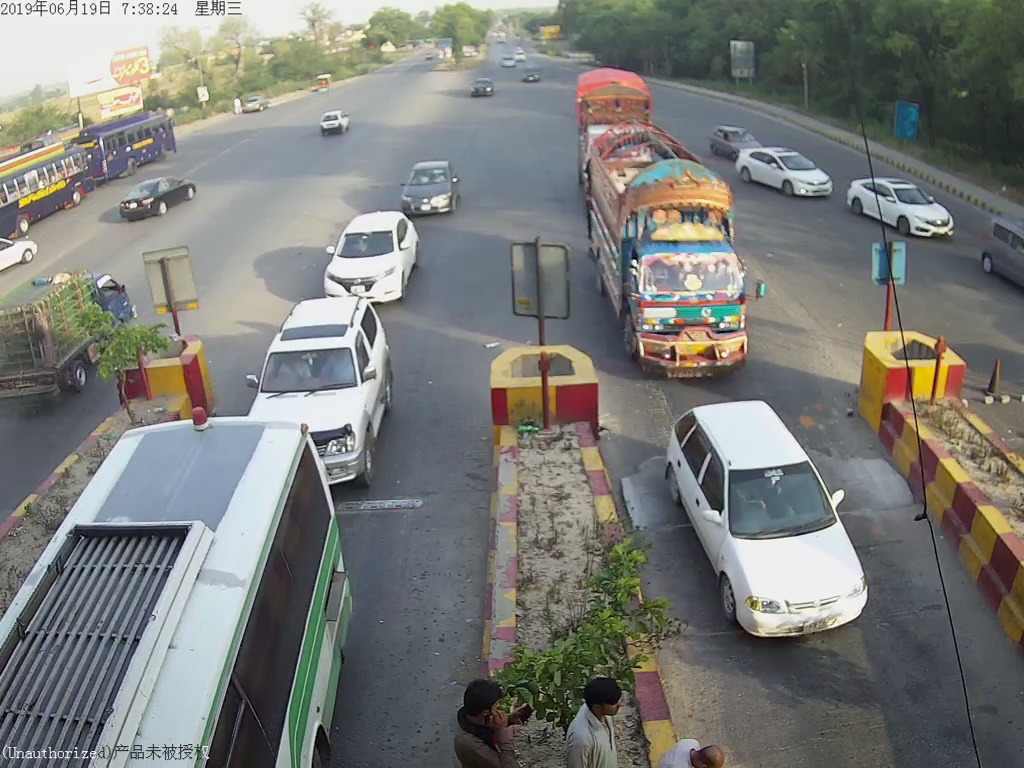Cat-1: (671, 399, 878, 637), (253, 293, 398, 480), (323, 215, 423, 304), (853, 167, 958, 240), (737, 134, 831, 201), (393, 156, 464, 218)
Cat-4: (591, 129, 758, 380)
